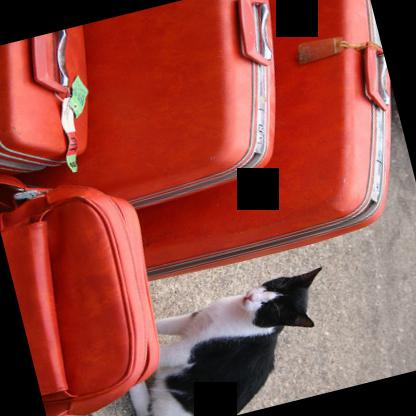suitcase: (137, 0, 390, 283), (17, 0, 273, 210), (0, 177, 163, 416), (0, 25, 88, 179)
